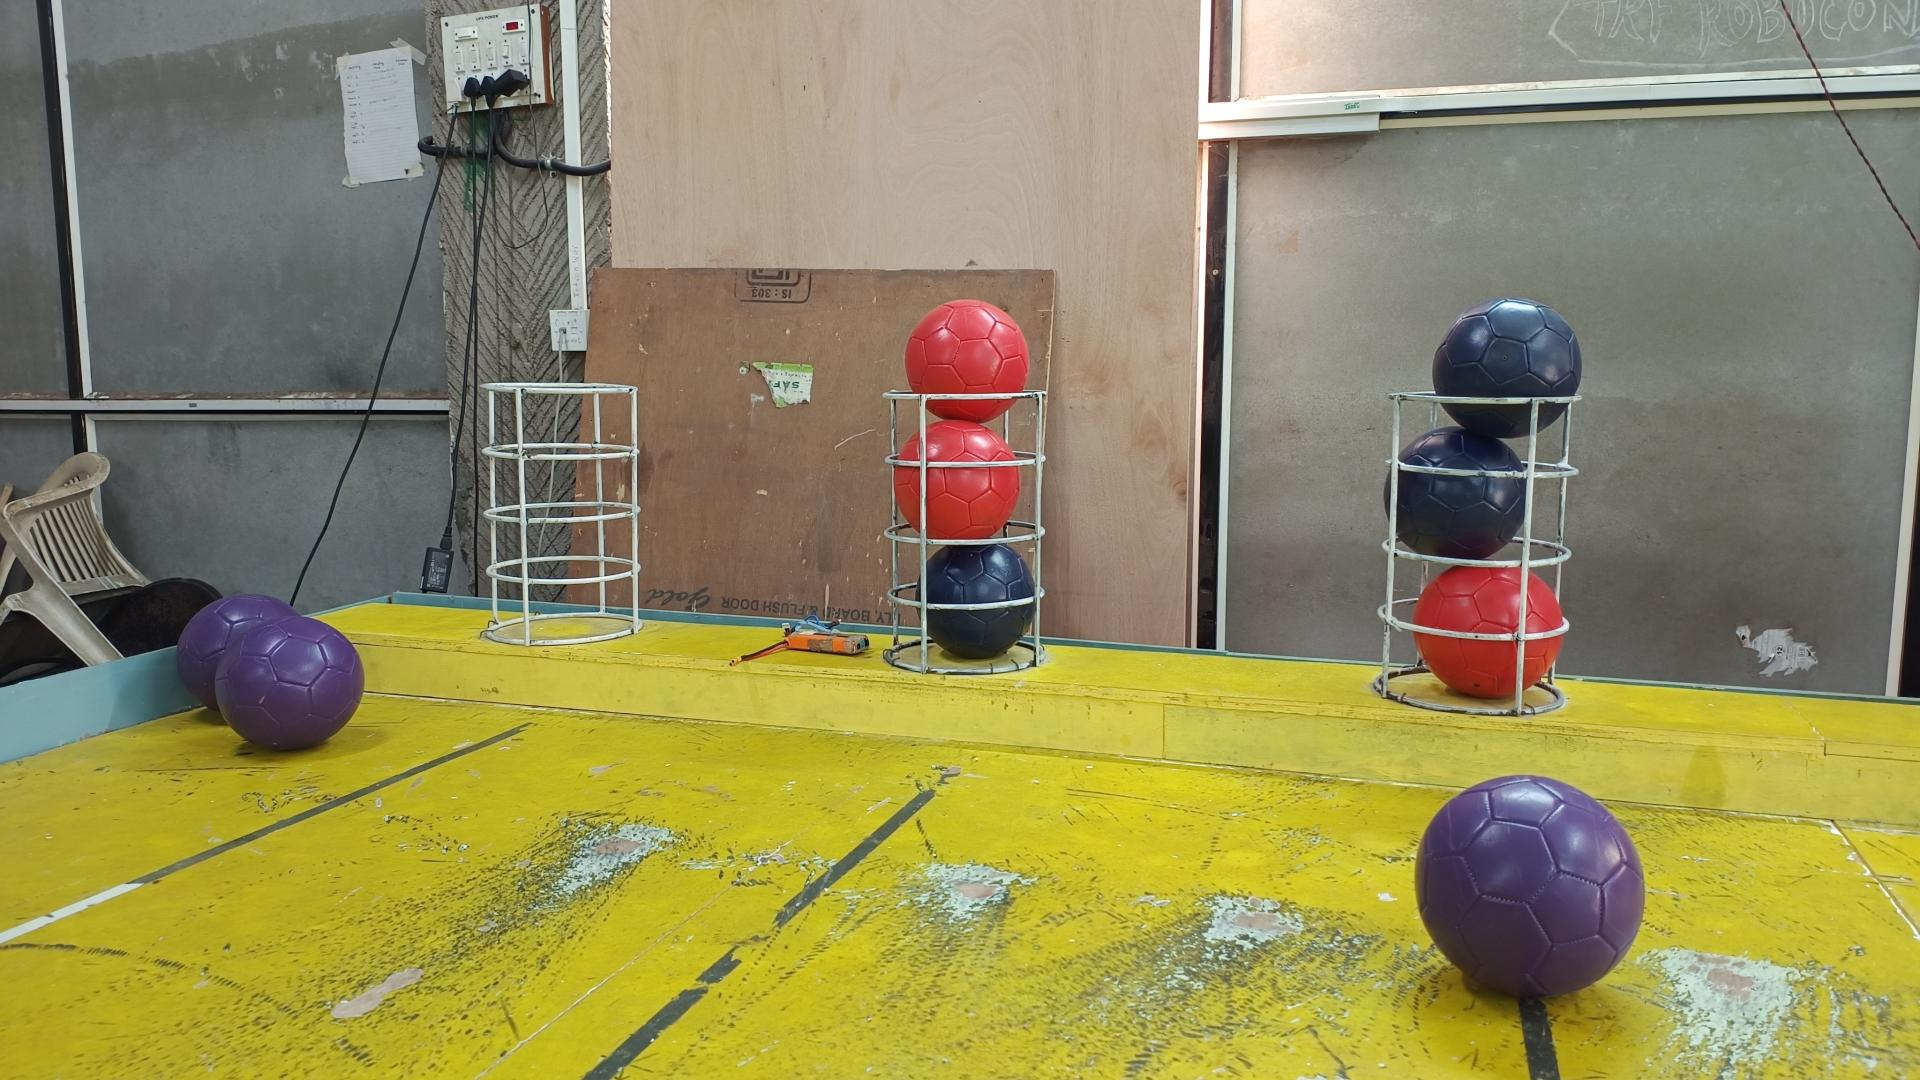dhoka: (1432, 297, 1582, 439), (1383, 427, 1526, 559), (915, 543, 1039, 661)
laale: (1414, 566, 1564, 702), (903, 301, 1031, 423), (893, 419, 1021, 541)
